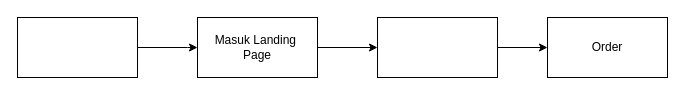
This 685x95 diagram has some shape labels left out. Here are the shapes that lost their labels. From the top down, the centre of each, then its label:
At pixel 77 47: "Pelanggan".
At pixel 437 47: "Pilih Produk".
